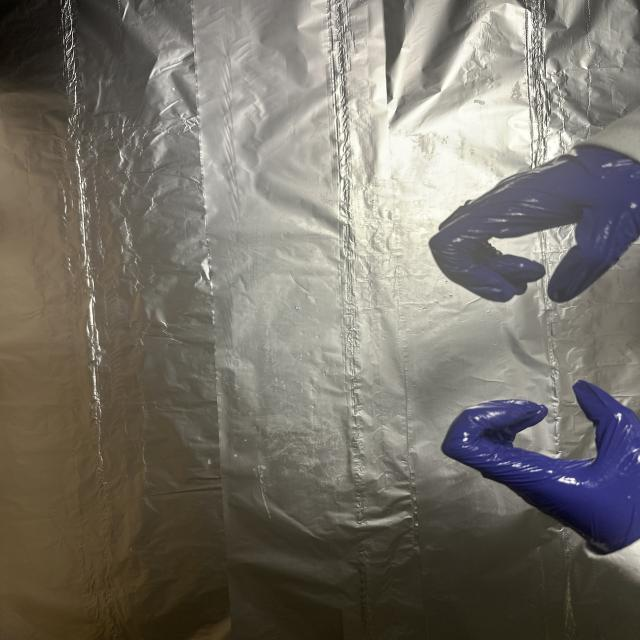gloves_contaminated: (442, 381, 640, 554), (430, 145, 640, 302)
